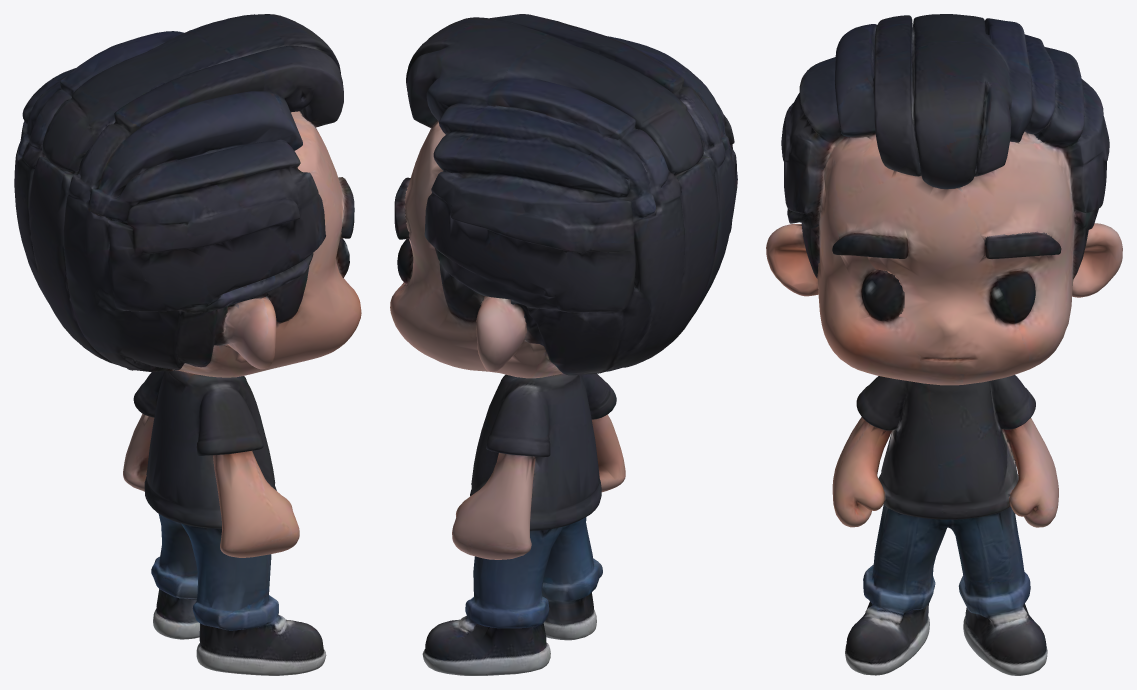
File: hair_m5-web.glb
3 views of the same model, side by side, from view 1: azimuth 30°, elevation 25°; view 2: azimuth 150°, elevation 25°; view 3: azimuth 270°, elevation 25° (orthographic).
Parts seen in each view (by area): view 1: tripo_node_905a573f-d04a-4380-9d46-2d704dec7bd9; view 2: tripo_node_905a573f-d04a-4380-9d46-2d704dec7bd9; view 3: tripo_node_905a573f-d04a-4380-9d46-2d704dec7bd9.
Part boxes in pixels (bbox=[...]): tripo_node_905a573f-d04a-4380-9d46-2d704dec7bd9: bbox=[14, 14, 361, 675]; tripo_node_905a573f-d04a-4380-9d46-2d704dec7bd9: bbox=[390, 14, 737, 675]; tripo_node_905a573f-d04a-4380-9d46-2d704dec7bd9: bbox=[766, 14, 1122, 675].
Bounding box in the file's own units: 0.4942 × 0.9998 × 0.5361.
1 material, 1 textured.
